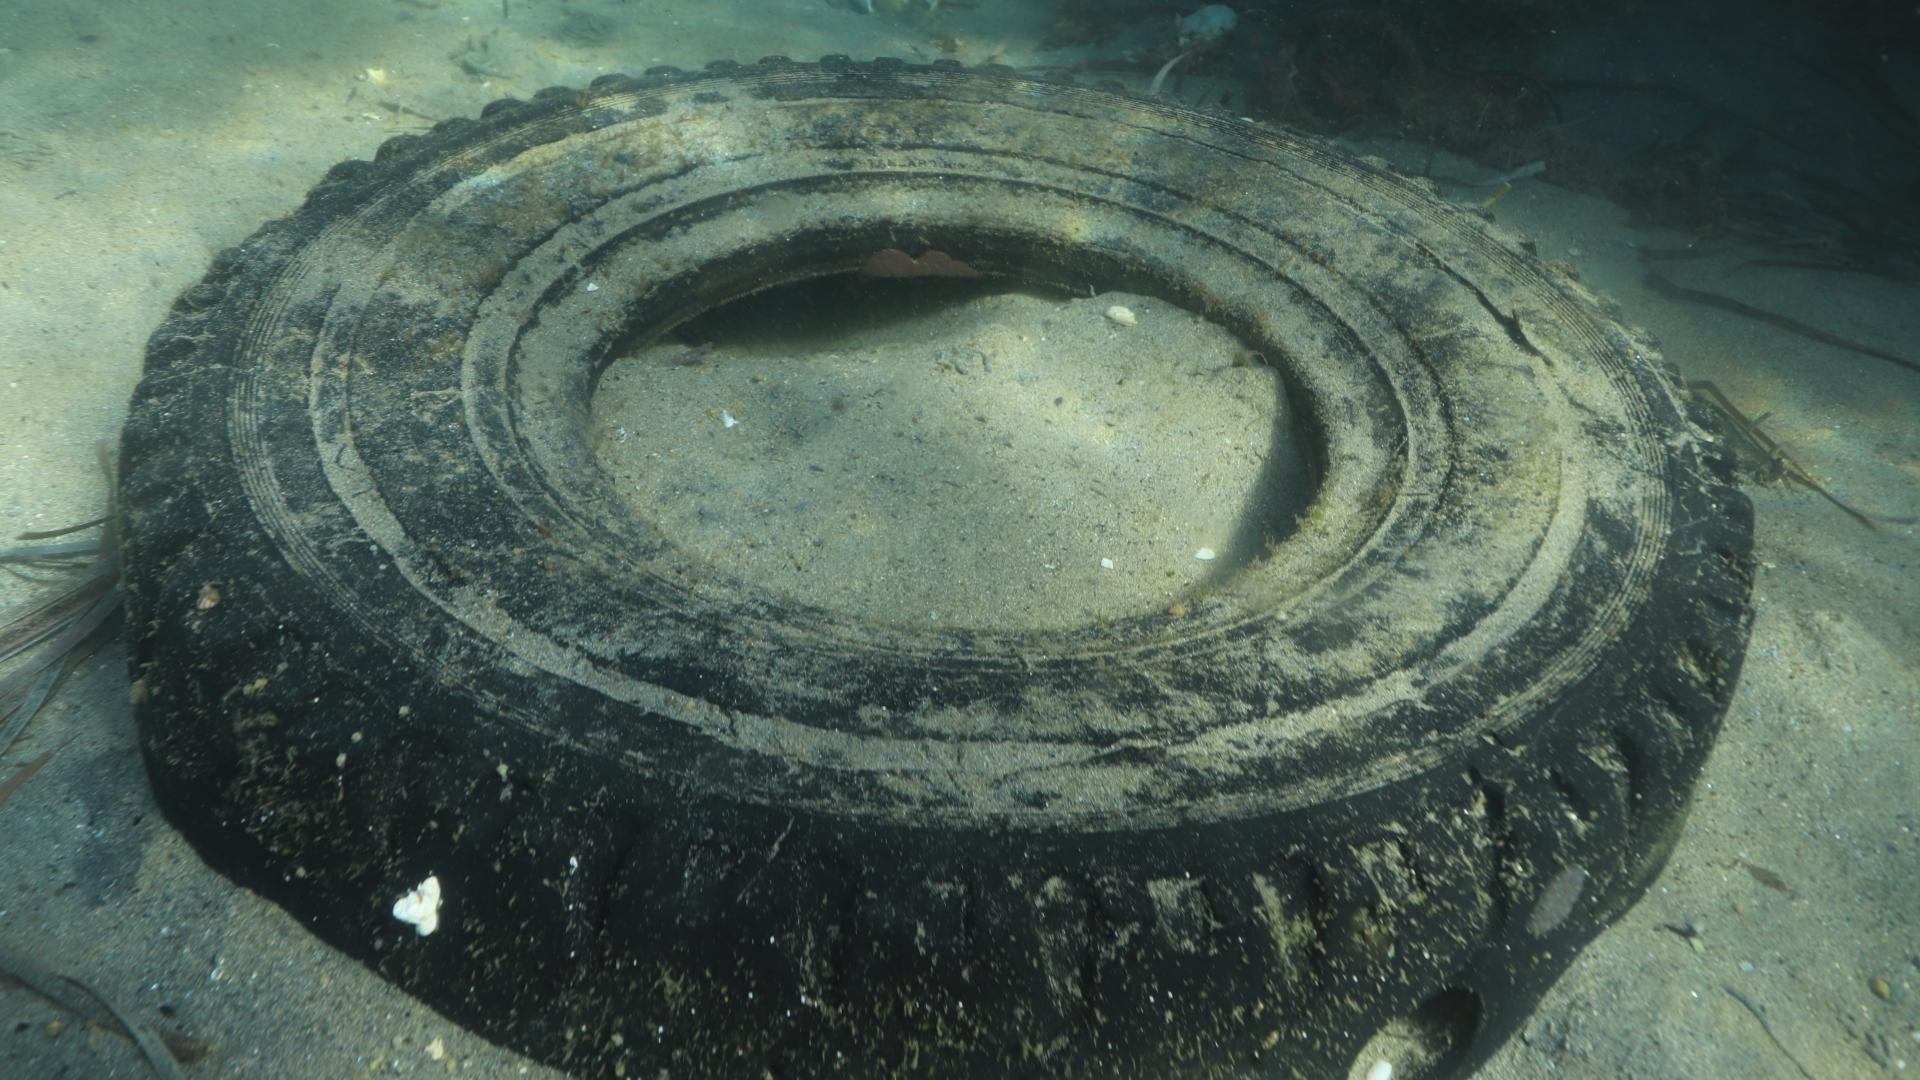tire: (112, 51, 1756, 1080)
